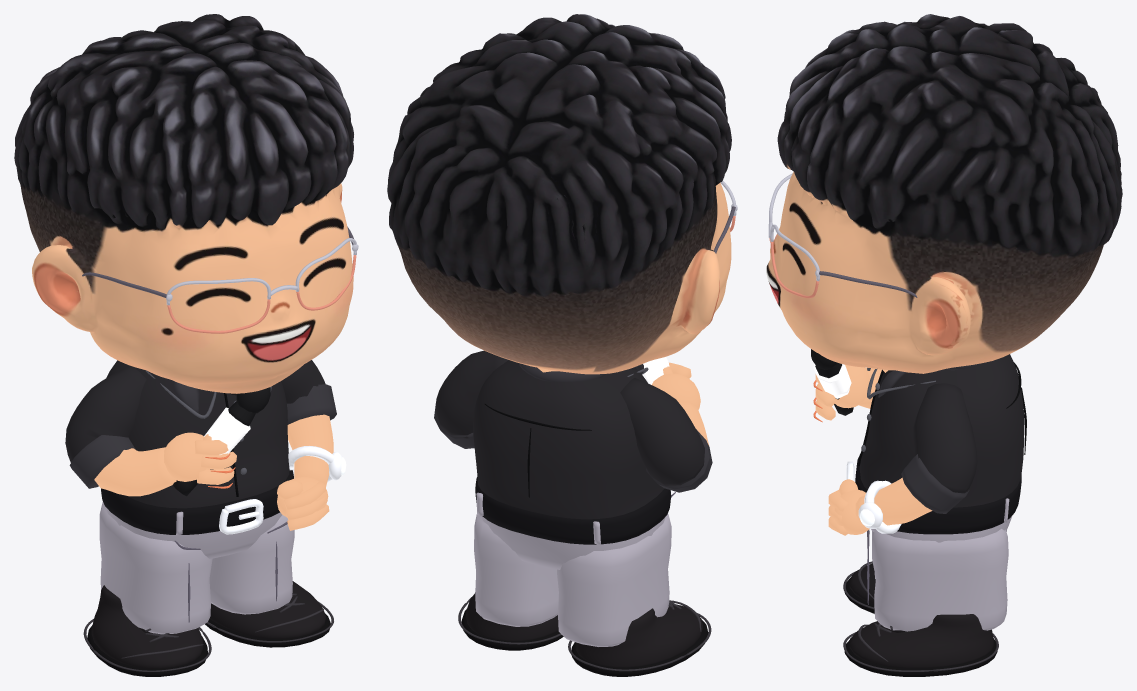
Rendered from eric.glb.
3 views of the same model, side by side, from view 1: azimuth 30°, elevation 25°; view 2: azimuth 150°, elevation 25°; view 3: azimuth 270°, elevation 25° (orthographic).
Parts seen in each view (by area): view 1: machi_head__face, machi_body__shirt, machi_legR__pants, machi_armR__skin, machi_legL__pants, machi_legR__shoe, machi_armL__skin, machi_armR__shirt, machi_body__belt, machi_legL__shoe, machi_body__pants, machi_armR__shirt_cuff (+10 smaller); view 2: machi_head__face, machi_body__shirt, machi_legR__pants, machi_legL__pants, machi_armR__shirt, machi_body__belt, machi_legR__shoe, machi_armL__shirt, machi_body__pants, machi_armR__skin, machi_legL__shoe, machi_legR__sole (+4 smaller); view 3: machi_head__face, machi_body__shirt, machi_legL__pants, machi_legL__shoe, machi_armL__shirt, machi_armL__skin, machi_body__belt, machi_armL__shirt_cuff, machi_armR__skin, machi_legL__sole, machi_body__pants, machi_armL__silver (+4 smaller).
Part boxes in pixels (x1,y1,x2,y2): machi_head__face: (14,14,353,395); machi_body__shirt: (106,360,289,508); machi_legR__pants: (99,501,212,634); machi_armR__skin: (94,432,236,496); machi_legL__pants: (209,515,294,614); machi_legR__shoe: (91,585,203,668); machi_armL__skin: (277,414,333,530); machi_armR__shirt: (65,366,146,462); machi_body__belt: (101,470,293,534); machi_legL__shoe: (210,581,325,638); machi_body__pants: (106,507,282,558); machi_armR__shirt_cuff: (69,435,135,488); machi_head__face: (387,14,731,374); machi_body__shirt: (473,360,663,519); machi_legR__pants: (557,513,671,646); machi_legL__pants: (474,514,558,626); machi_armR__shirt: (620,378,704,485); machi_body__belt: (475,477,670,544); machi_legR__shoe: (576,604,702,667); machi_armL__shirt: (436,350,508,438); machi_body__pants: (476,492,665,569); machi_armR__skin: (652,362,709,445); machi_legL__shoe: (466,592,558,640); machi_legR__sole: (571,620,708,676); machi_head__face: (766,14,1122,373); machi_body__shirt: (859,354,1024,507); machi_legL__pants: (872,529,1008,631); machi_legL__shoe: (849,614,993,667); machi_armL__shirt: (913,383,977,493); machi_armL__skin: (828,477,932,535); machi_body__belt: (855,453,1021,534); machi_armL__shirt_cuff: (901,454,969,513); machi_armR__skin: (815,364,881,420); machi_legL__sole: (844,638,997,676); machi_body__pants: (871,498,1011,542); machi_armL__silver: (858,480,901,533).
Size of the model in its own units: 3.23 by 5.95 by 3.26.
20 materials, 1 textured.
